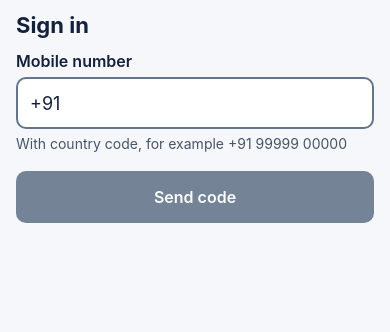
Scenario: sign-in › rate limiting shows the retry information
Replace the text in the field with test id "input-phone" with "+919999901202": (195,103) [16, 77, 374, 129]
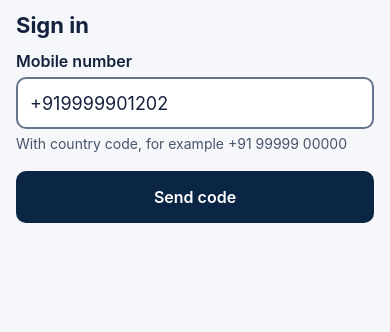
Click the button "Send code": (195,197) [16, 171, 374, 223]
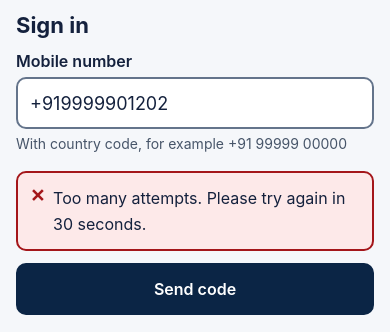
Now the text "Too many attempts. Please try again in 30 seconds." is shown, box [53, 185, 360, 237]
